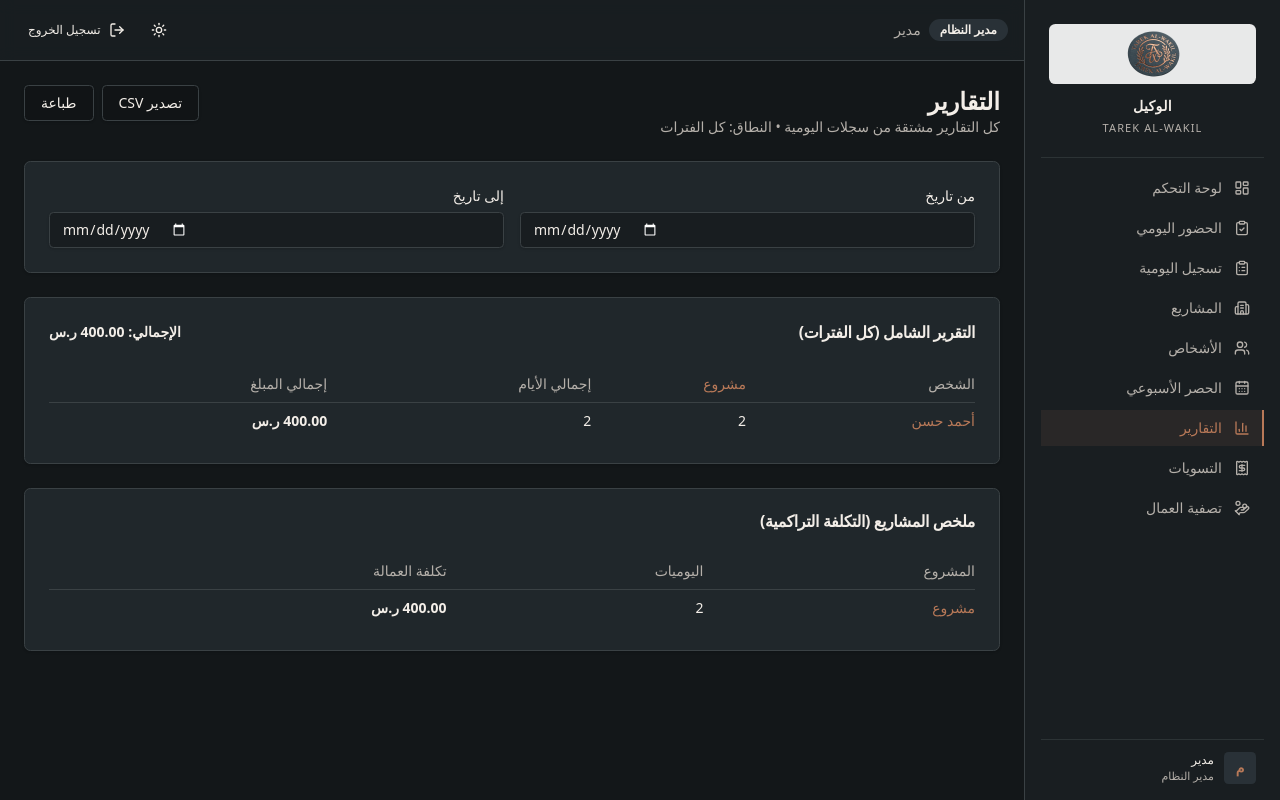
Test: ReportsPage › narrows totals when a date range is set
This screenshot has width=1280, height=800.
Expected: the text "الإجمالي: 400.00 ر.س" is shown, [49,322,181,342]
Type "2026-10-01" into the date field labelled "من تاريخ" at {"x": 748, "y": 230}, box [520,212,975,248]
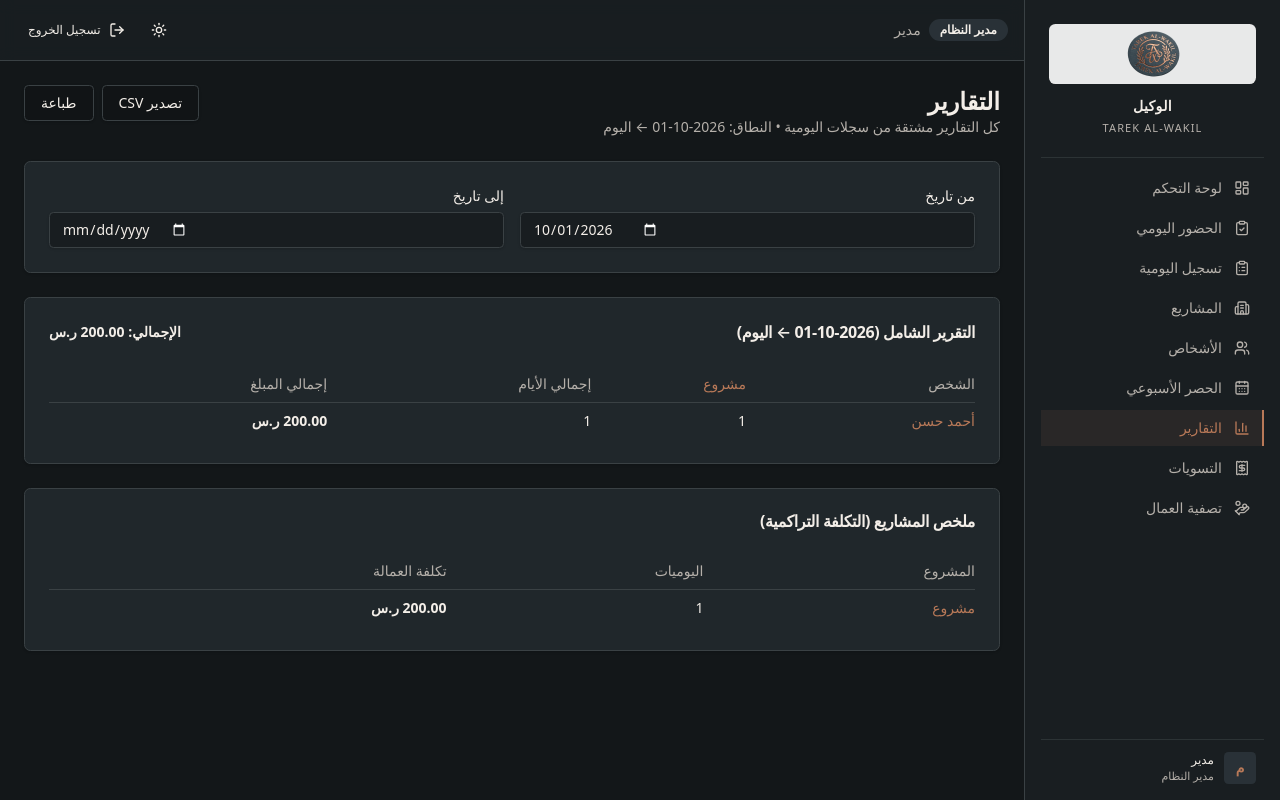
Now the text "الإجمالي: 200.00 ر.س" is shown, box [49,322,181,342]
Now the text "التقرير الشامل (2026-10-01 ← اليوم)" is shown, box [737,324,975,340]
